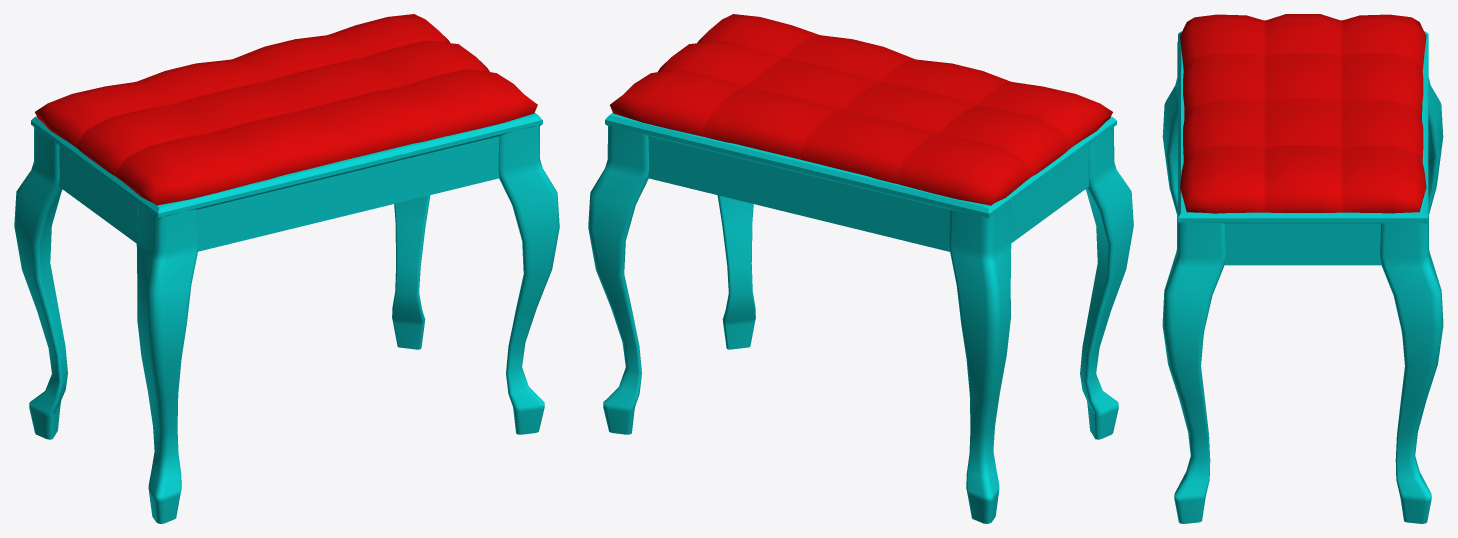
File: PianoChair.fbx
3 renders of one model, left to right at view 1: azimuth 30°, elevation 25°; view 2: azimuth 150°, elevation 25°; view 3: azimuth 270°, elevation 25°, orthographic.
Parts seen in each view (by area): view 1: PianoChair; view 2: PianoChair; view 3: PianoChair.
Part boxes in pixels (bbox=[...]): PianoChair: bbox=[14, 14, 559, 523]; PianoChair: bbox=[588, 14, 1133, 523]; PianoChair: bbox=[1162, 14, 1443, 523].
Size of the model in its own units: 77.86 by 62.41 by 46.96.
